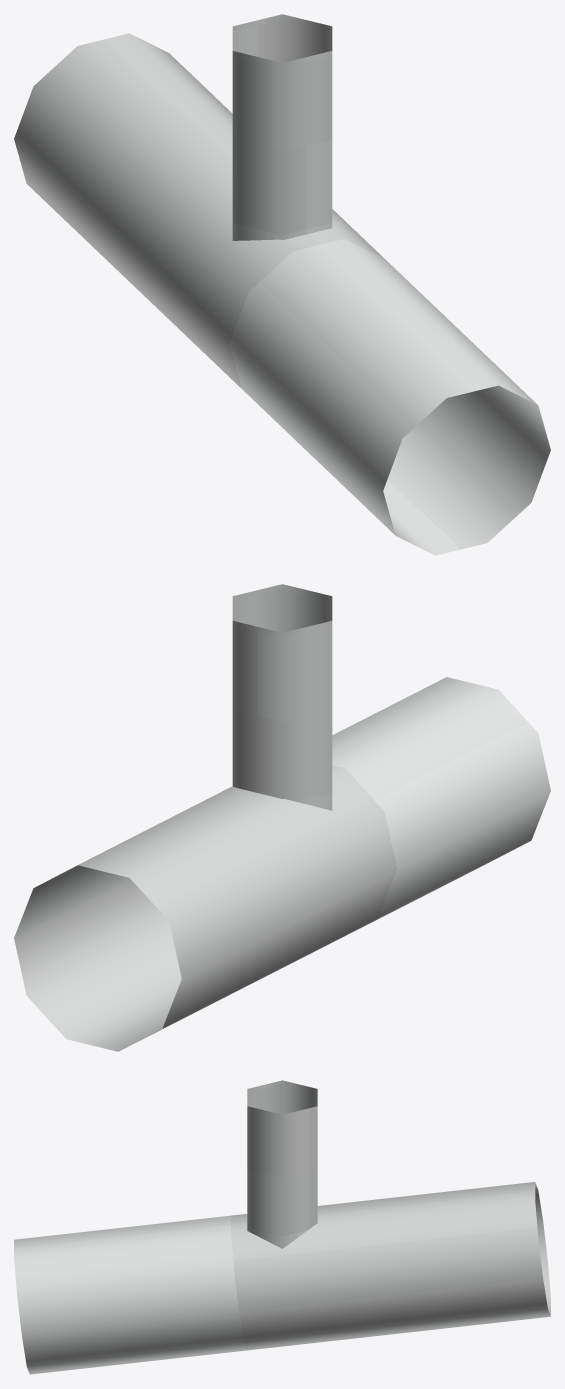
Rendered from trusssignalarm_level10_c4.obj.
3 renders of one model, top to bottom at view 1: azimuth 30°, elevation 25°; view 2: azimuth 150°, elevation 25°; view 3: azimuth 270°, elevation 25°, orthographic. The views are drawn at different scales.
Parts seen in each view (by area): view 1: trusssignalarm_level10_c4; view 2: trusssignalarm_level10_c4; view 3: trusssignalarm_level10_c4.
Boxes of the visible parts, x1,y1,x2,y2 form: trusssignalarm_level10_c4: (14, 14, 550, 555); trusssignalarm_level10_c4: (14, 584, 550, 1051); trusssignalarm_level10_c4: (14, 1080, 550, 1374).
Size of the model in its own units: 0.2625 by 0.5676 by 1.03.
